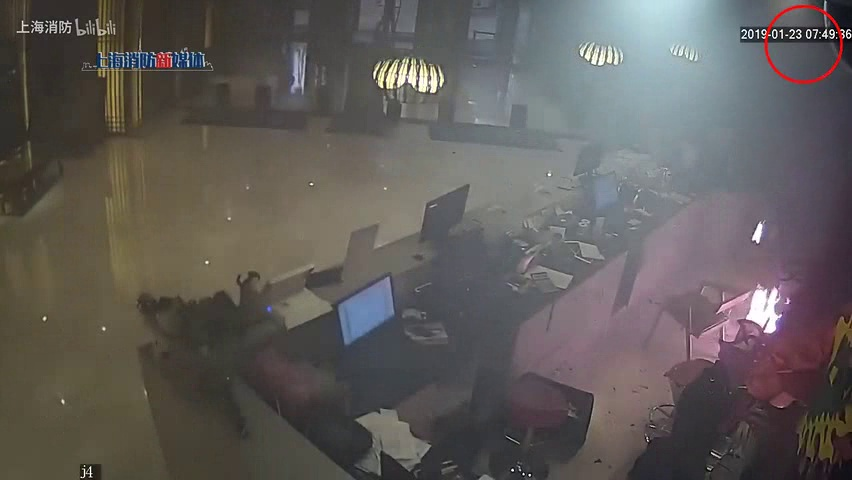fire: (741, 274, 790, 337)
